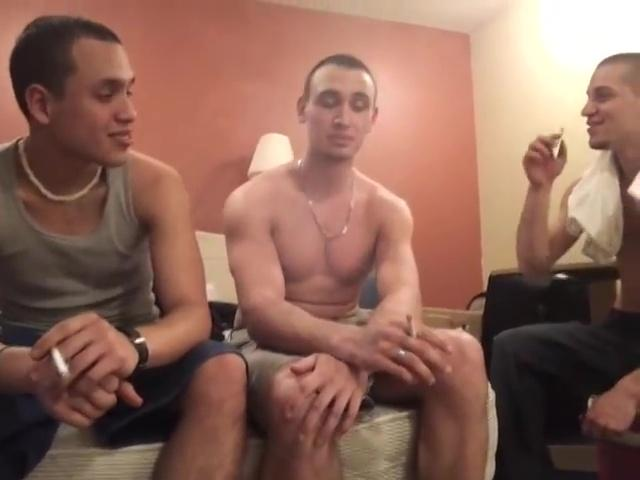cigarette: (47, 346, 72, 378), (406, 312, 417, 339)
